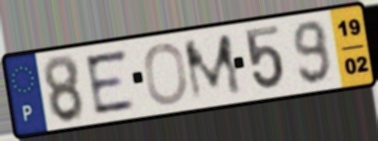5: (241, 25, 287, 93)
8: (41, 52, 87, 125)
9: (291, 18, 336, 86)
E: (82, 47, 139, 118)
M: (180, 30, 246, 104)
O: (142, 41, 190, 107)
